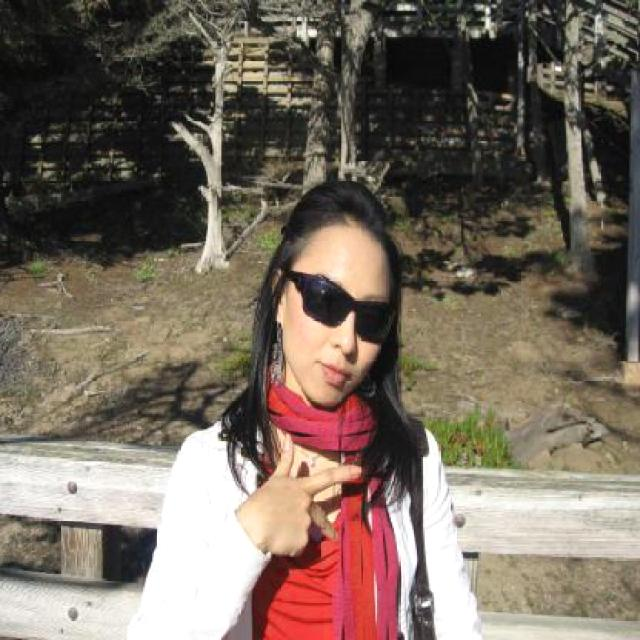face_nomask: (286, 267, 400, 396)
glasses: (277, 268, 401, 344)
hand_noglove: (234, 429, 374, 568)
head_nohelmet: (264, 163, 404, 254)
person: (142, 155, 476, 640)
